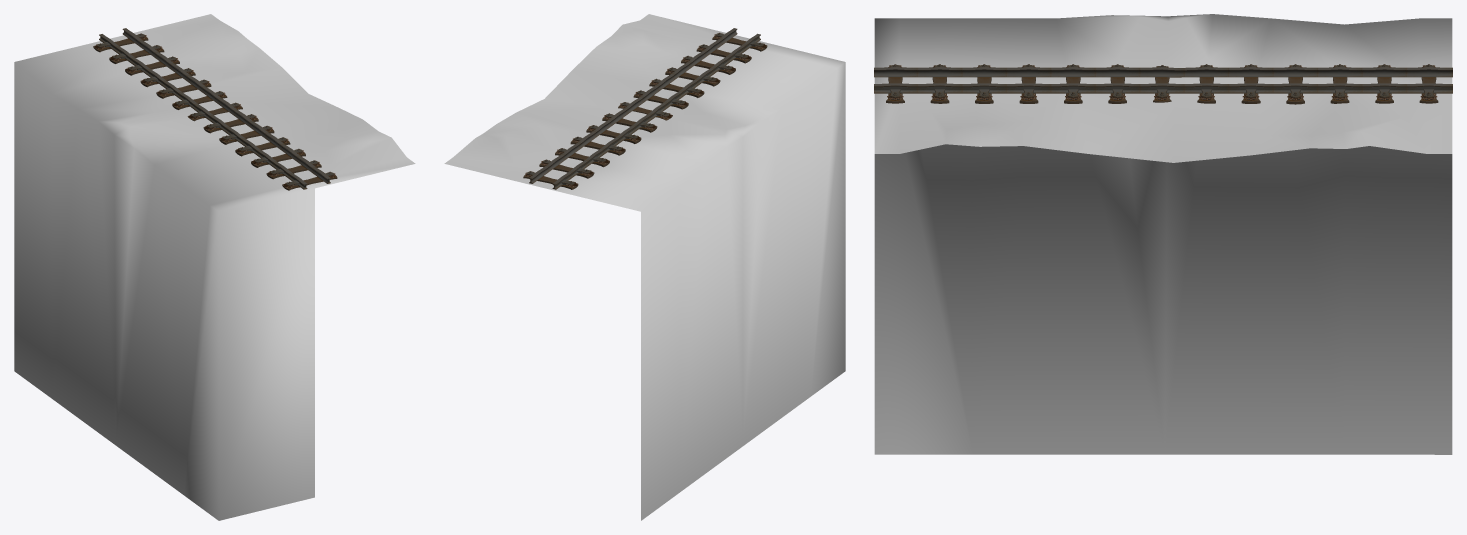
The model's file is f_floor_01.fbx.
3 renders of one model, left to right at view 1: azimuth 30°, elevation 25°; view 2: azimuth 150°, elevation 25°; view 3: azimuth 270°, elevation 25°, orthographic. The views are drawn at different scales.
Visible parts, largest first — view 1: f_floor_01; view 2: f_floor_01; view 3: f_floor_01.
Part boxes in pixels (box(x1,y1,x2,y2)): f_floor_01: box(14, 14, 415, 520); f_floor_01: box(444, 14, 845, 520); f_floor_01: box(874, 14, 1452, 454).
Size of the model in its own units: 10.1 by 15.39 by 18.03.
